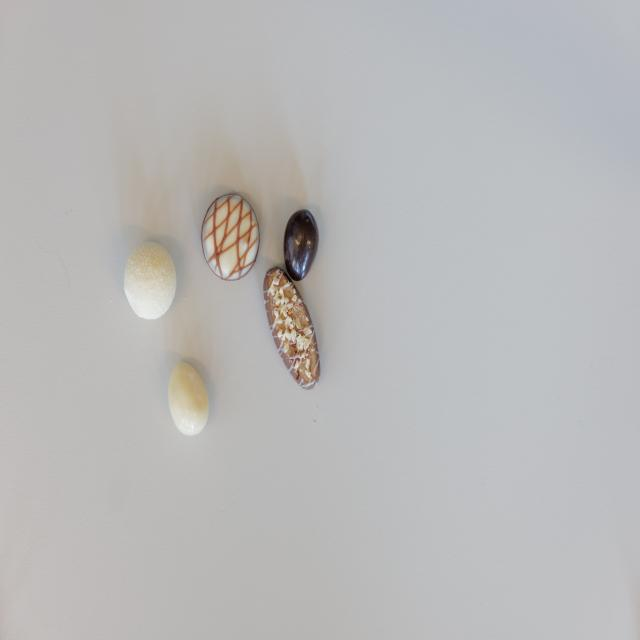Amandina: (263, 266, 321, 388)
Comtesse: (124, 238, 176, 320)
Creme_brulee: (198, 193, 258, 281)
Jelly_Black: (283, 208, 319, 282)
Jelly_White: (166, 360, 210, 438)
